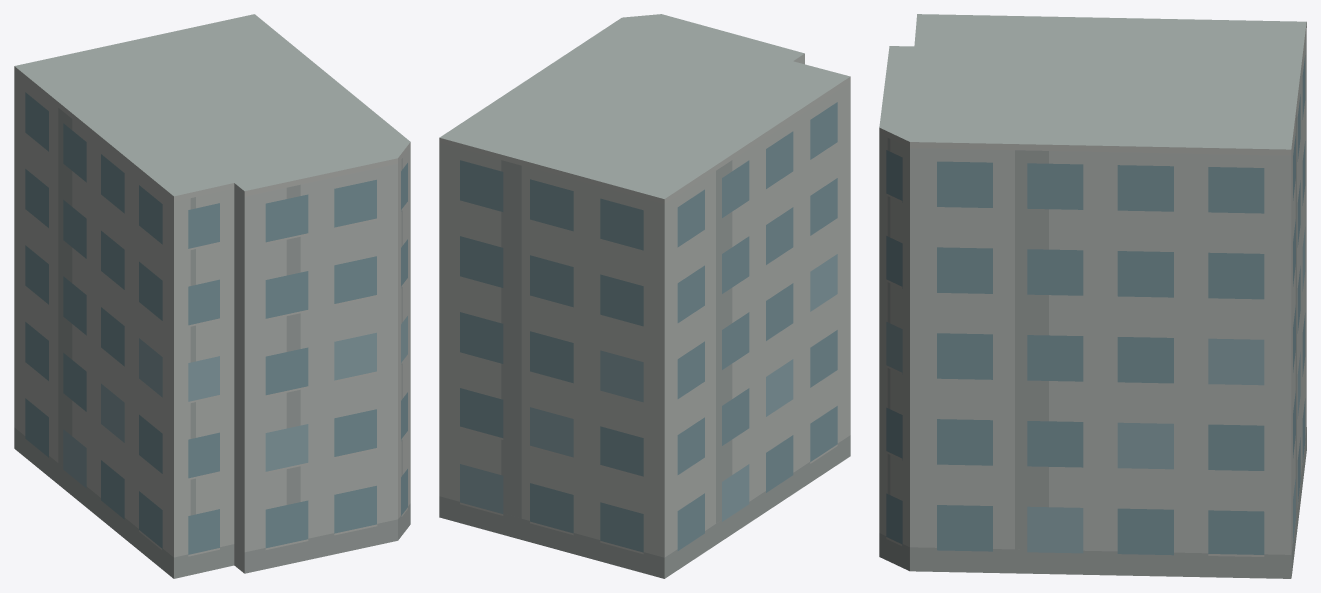
File: survey-upis-32861376.glb
3 renders of one model, left to right at view 1: azimuth 30°, elevation 25°; view 2: azimuth 150°, elevation 25°; view 3: azimuth 270°, elevation 25°, orthographic. The views are drawn at different scales.
Parts seen in each view (by area): view 1: survey-upis-32861376.tmp; view 2: survey-upis-32861376.tmp; view 3: survey-upis-32861376.tmp.
Part boxes in pixels (x1,y1,x2,y2): survey-upis-32861376.tmp: (14,14,410,578); survey-upis-32861376.tmp: (439,14,850,578); survey-upis-32861376.tmp: (879,14,1306,578).
Bounding box in the file's own units: 11.39 × 16.8 × 15.17.
